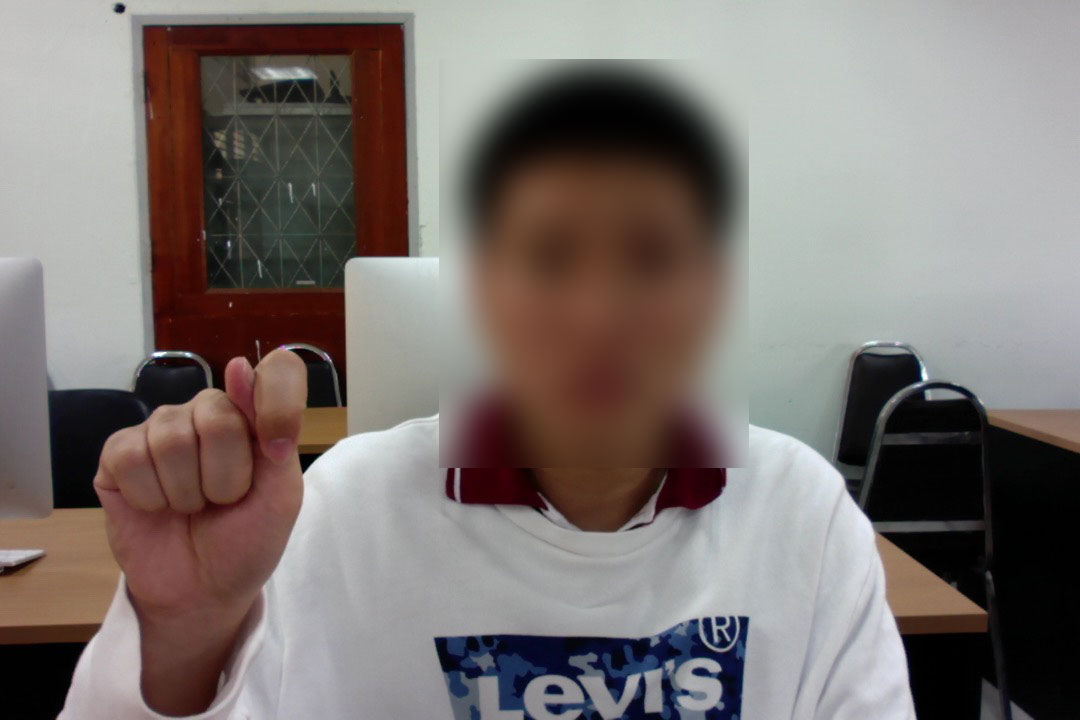tor: (89, 345, 311, 656)
